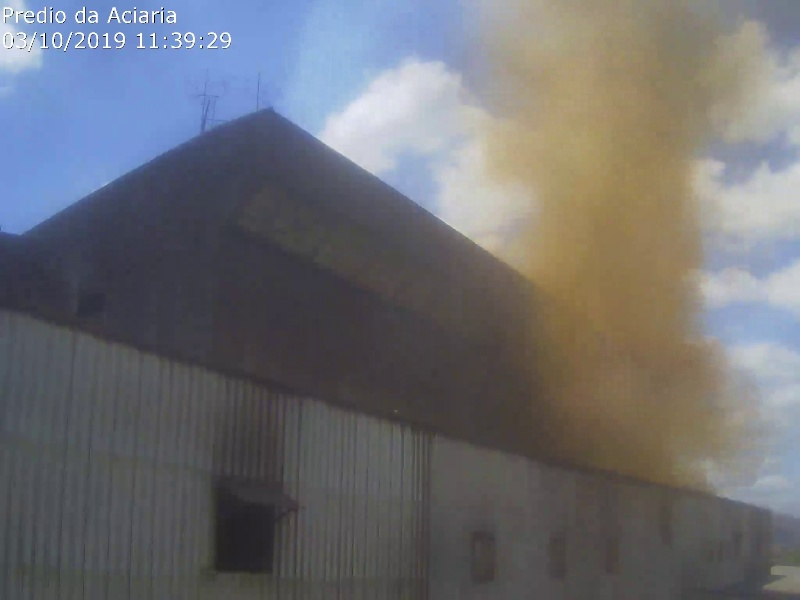bom: (210, 3, 463, 280), (1, 3, 209, 206)
pessimo: (483, 3, 764, 495)
